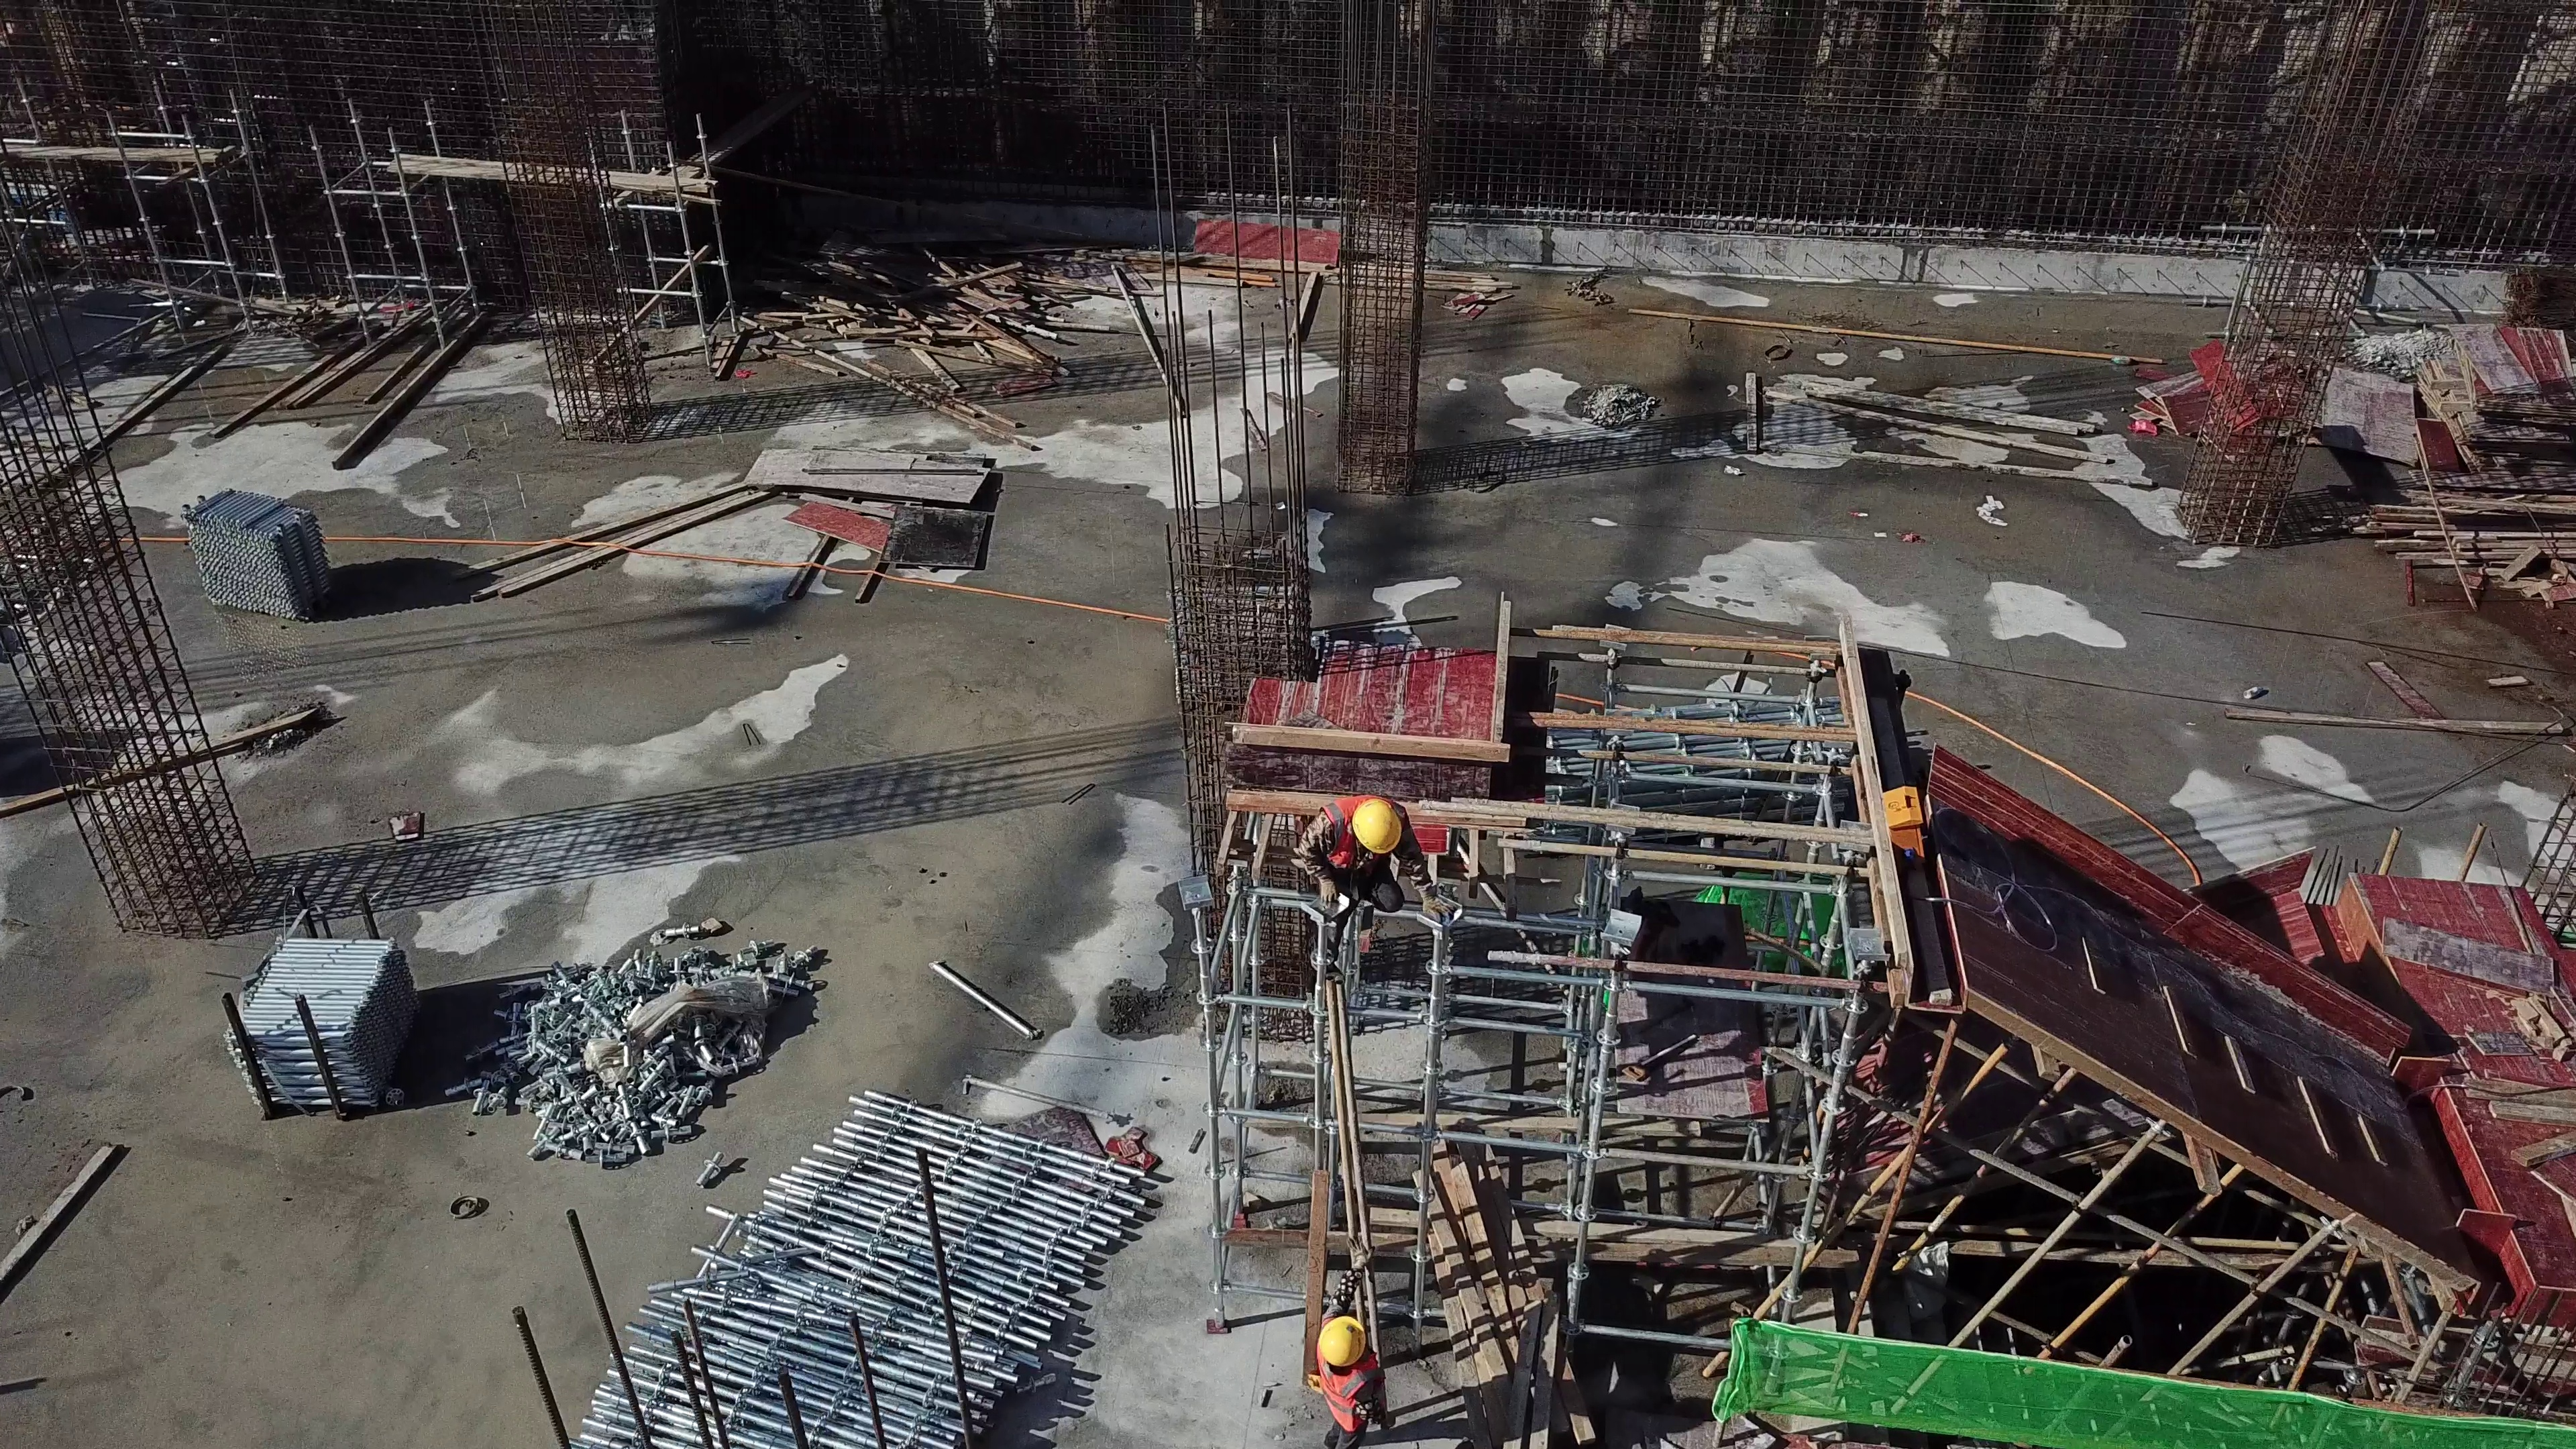board: (2422, 296, 2576, 460)
helmet: (1346, 796, 1405, 861), (1318, 1316, 1371, 1366)
person: (1285, 763, 1465, 977), (1299, 1240, 1426, 1449)
scaffold: (563, 1086, 1162, 1449), (230, 912, 437, 1127), (1507, 693, 1849, 812)
vest: (1316, 1369, 1373, 1428), (1313, 788, 1351, 866)
